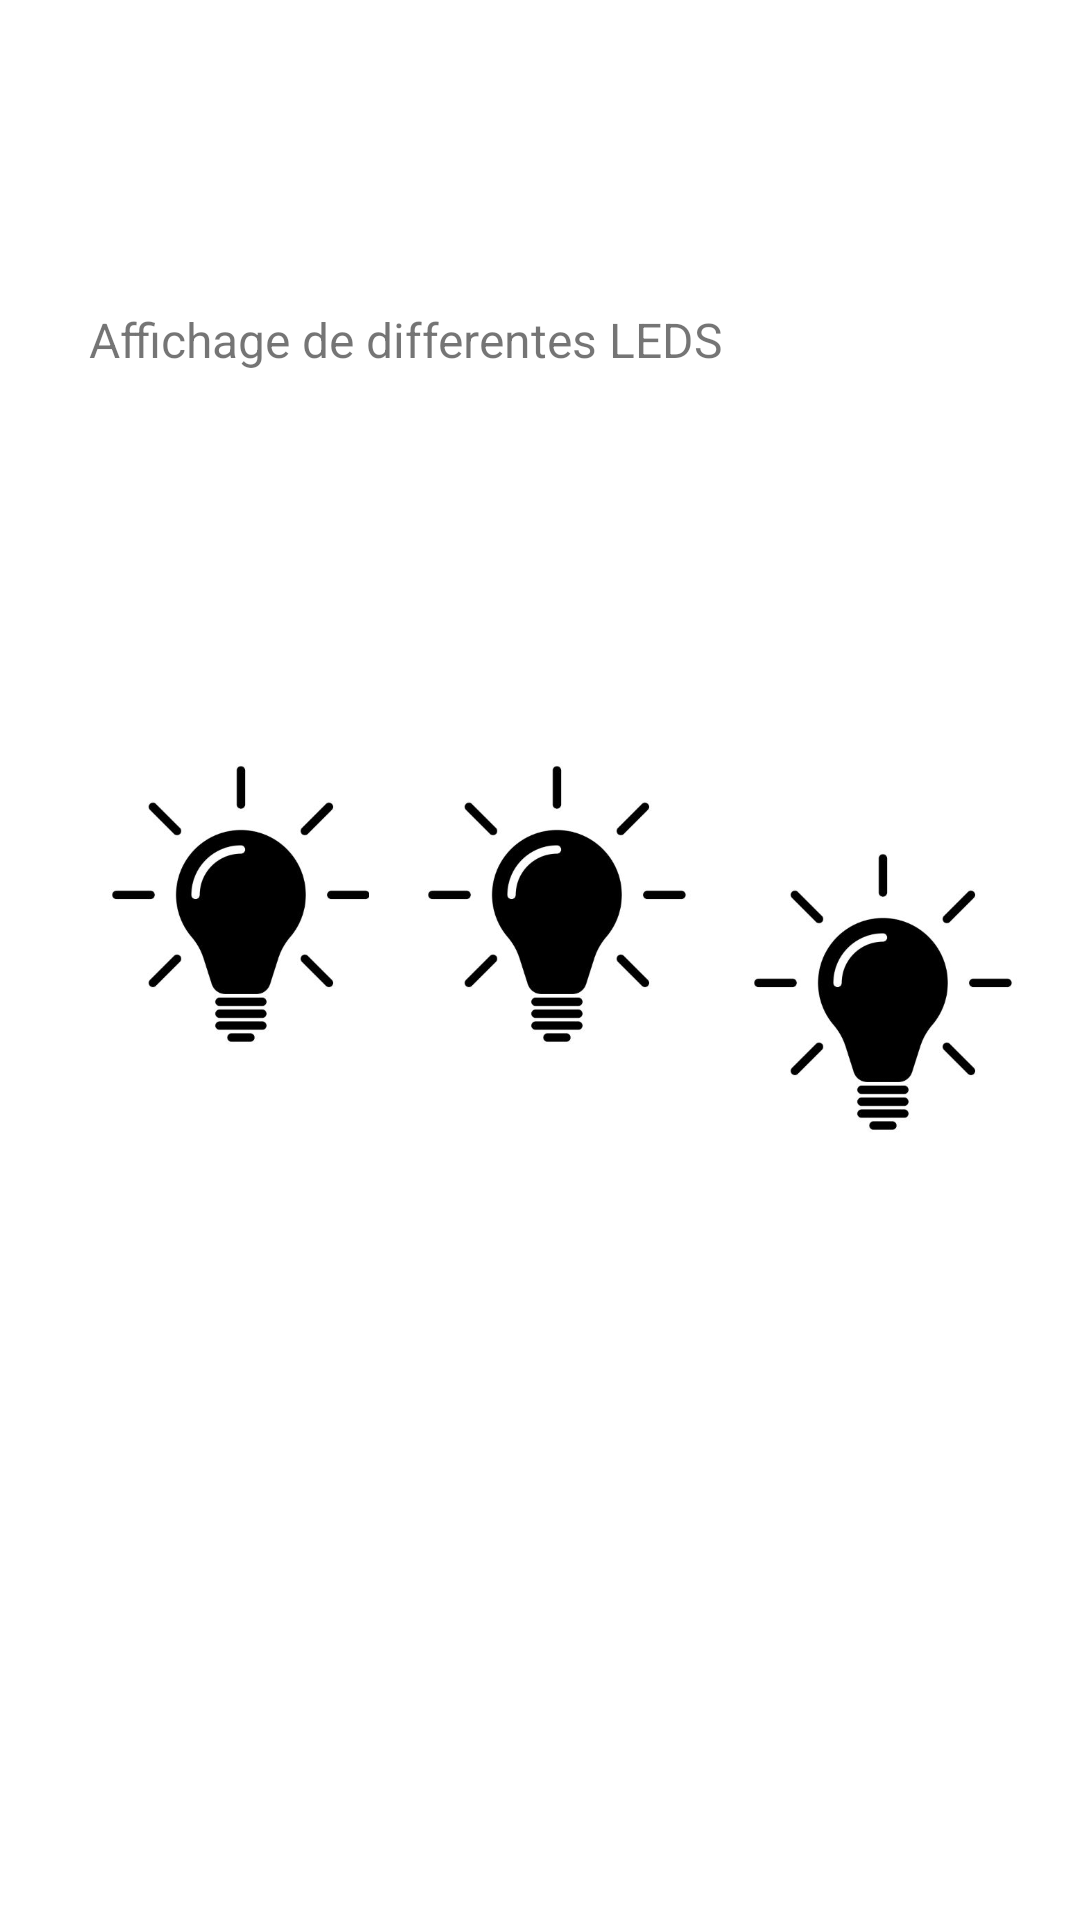

Where icons sit on this 1080w x 1920h app screen, as bbox=(x1, y1, x2, y2):
ledon: bbox=(112, 766, 369, 1042), bbox=(428, 766, 686, 1042), bbox=(754, 854, 1012, 1130)
